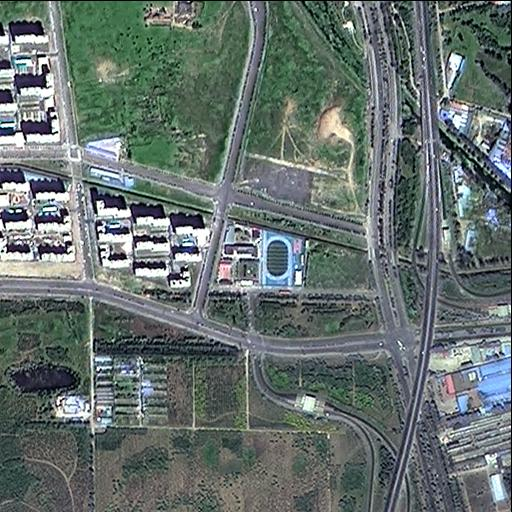school: (209, 215, 306, 290)
